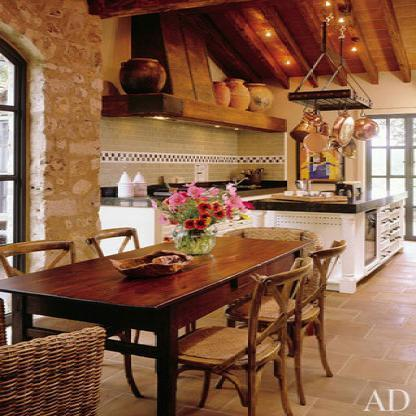chair: (4, 235, 144, 404), (176, 268, 305, 416), (223, 237, 355, 379), (0, 294, 104, 416), (223, 227, 325, 274), (89, 226, 138, 258)
